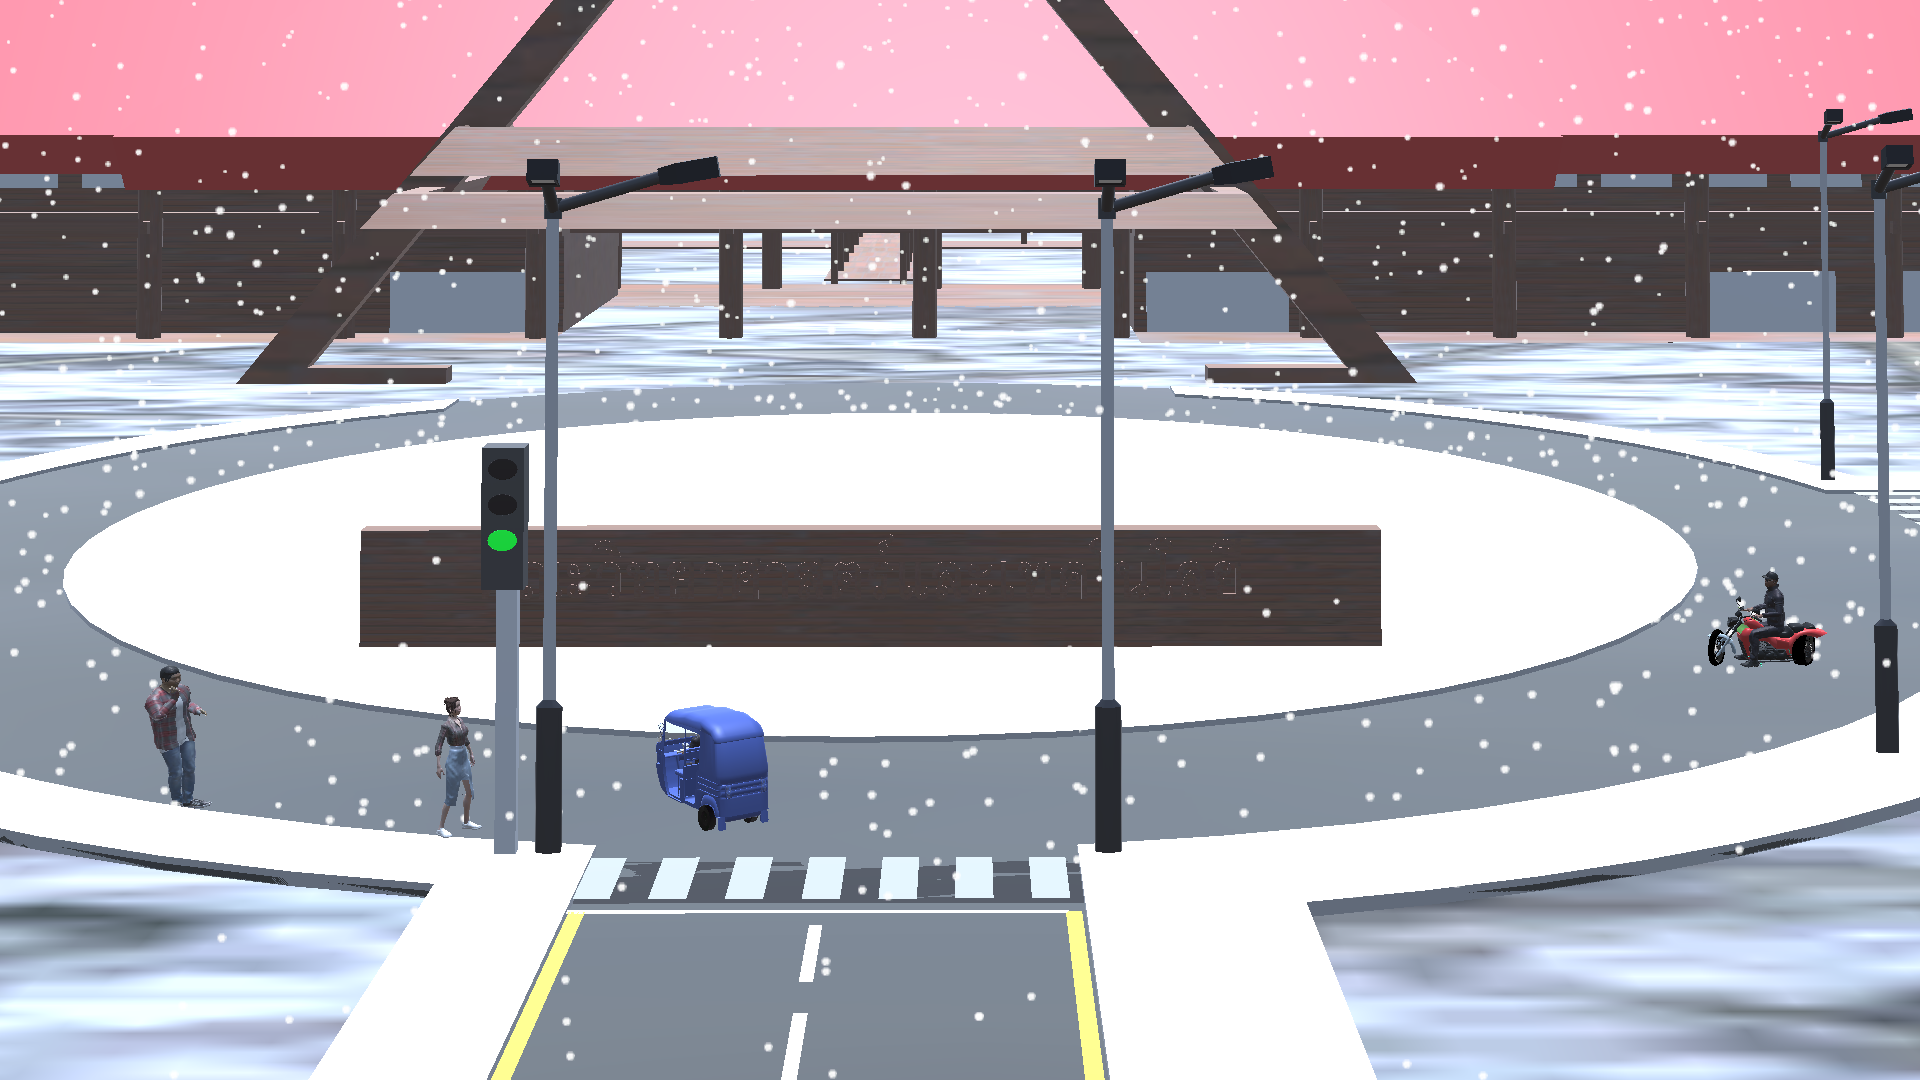pedestrian: (140, 662, 219, 815), (426, 693, 489, 836)
